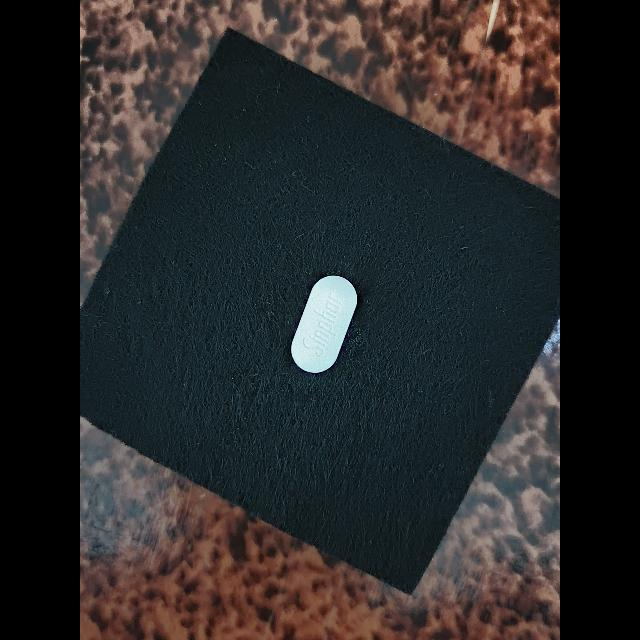Intact Pill: (291, 275, 357, 373)
